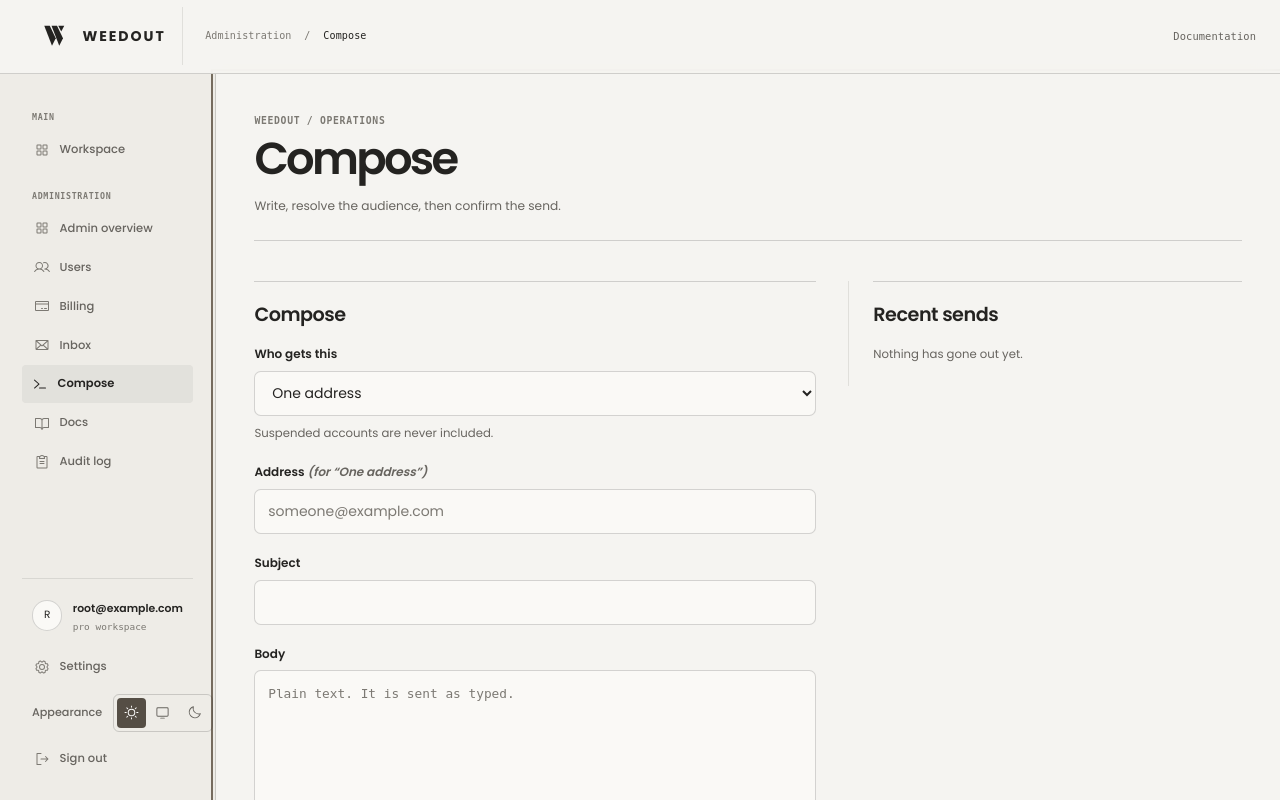
Scenario: the campaign send confirmation › clears the confirmation when the server says the audience moved
Expected: the heading "Compose" below "Weedout / Operations" is shown, [254, 127, 456, 190]
Type "Scheduled maintenance" into the field labelled "Subject" at point(535, 602), box [254, 580, 816, 625]
(page scrolled)
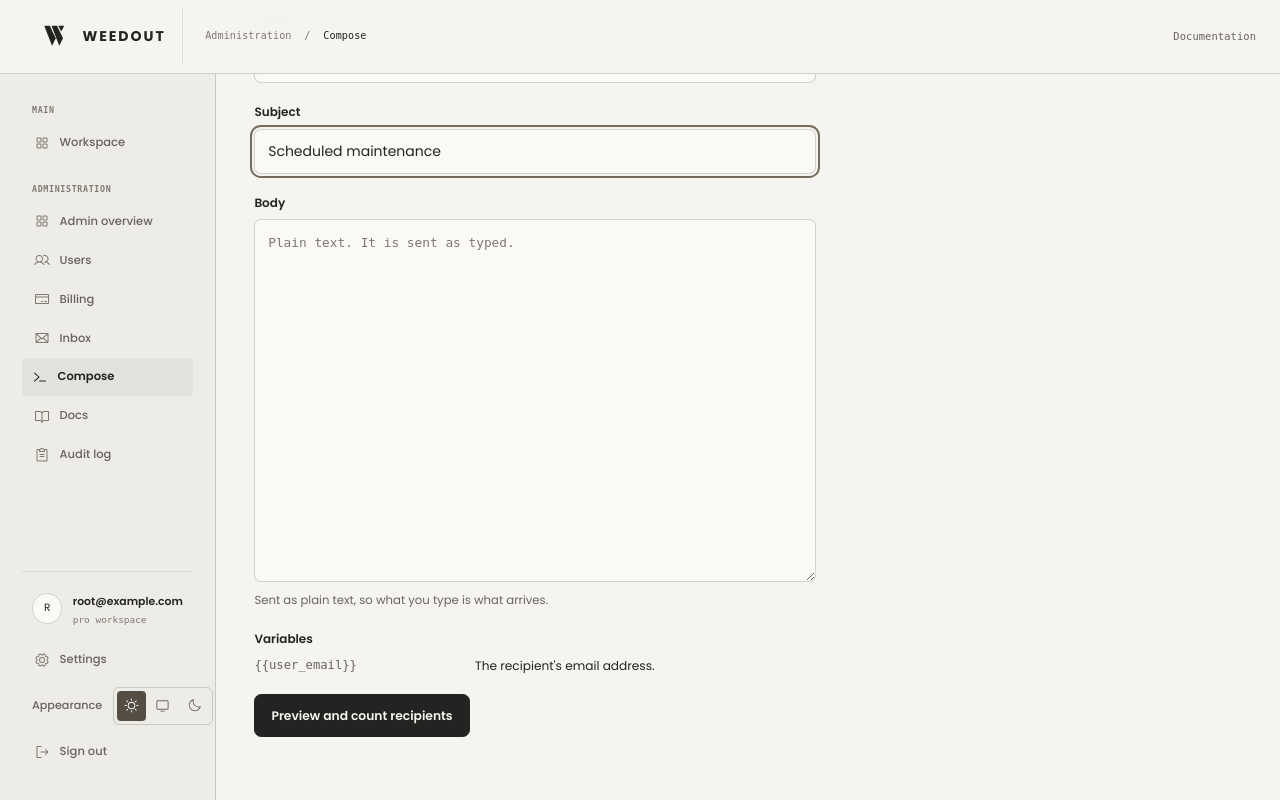
Type "We are moving the database on Friday." into the text box labelled "Body" at point(535, 401), box [254, 219, 816, 582]
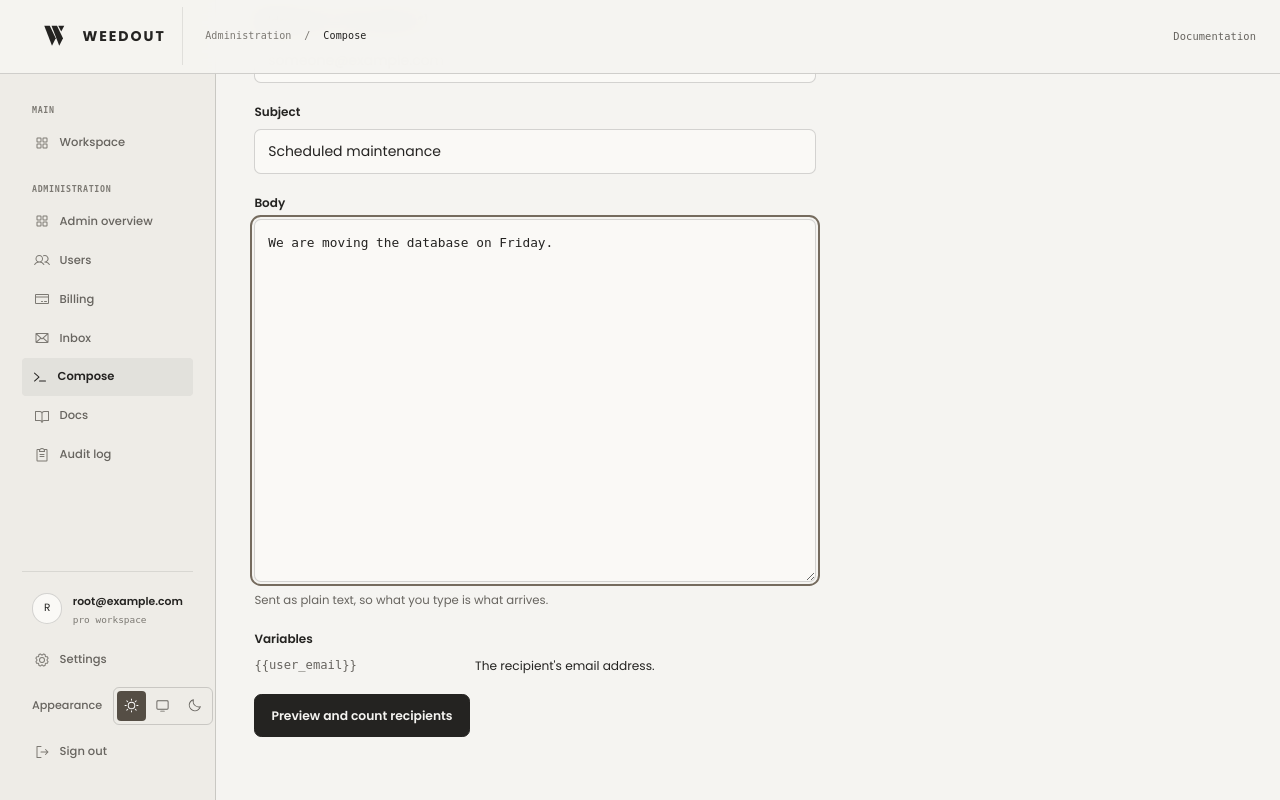
Click the button "Preview and count recipients" at point(362, 716), box [254, 694, 470, 738]
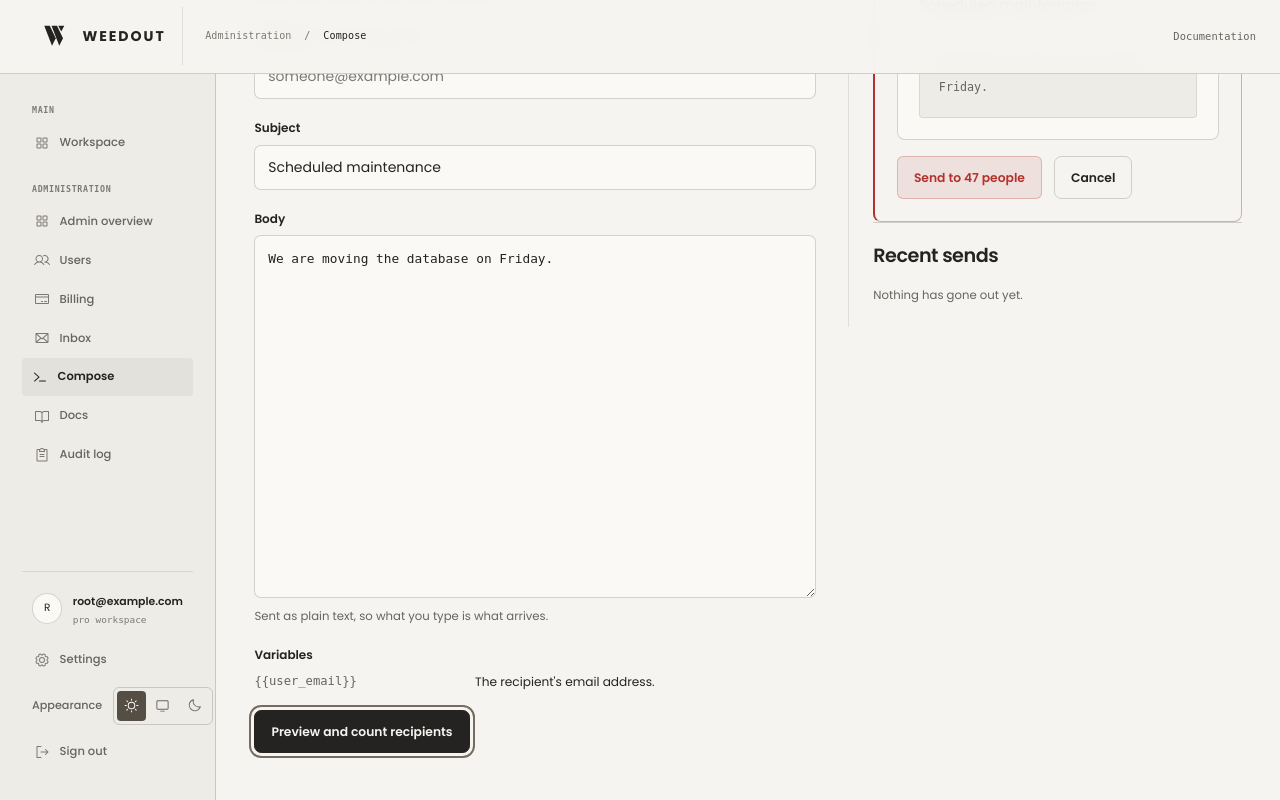
Click the button "Send to 47 people" at point(969, 178), box [897, 156, 1042, 199]
(page scrolled)
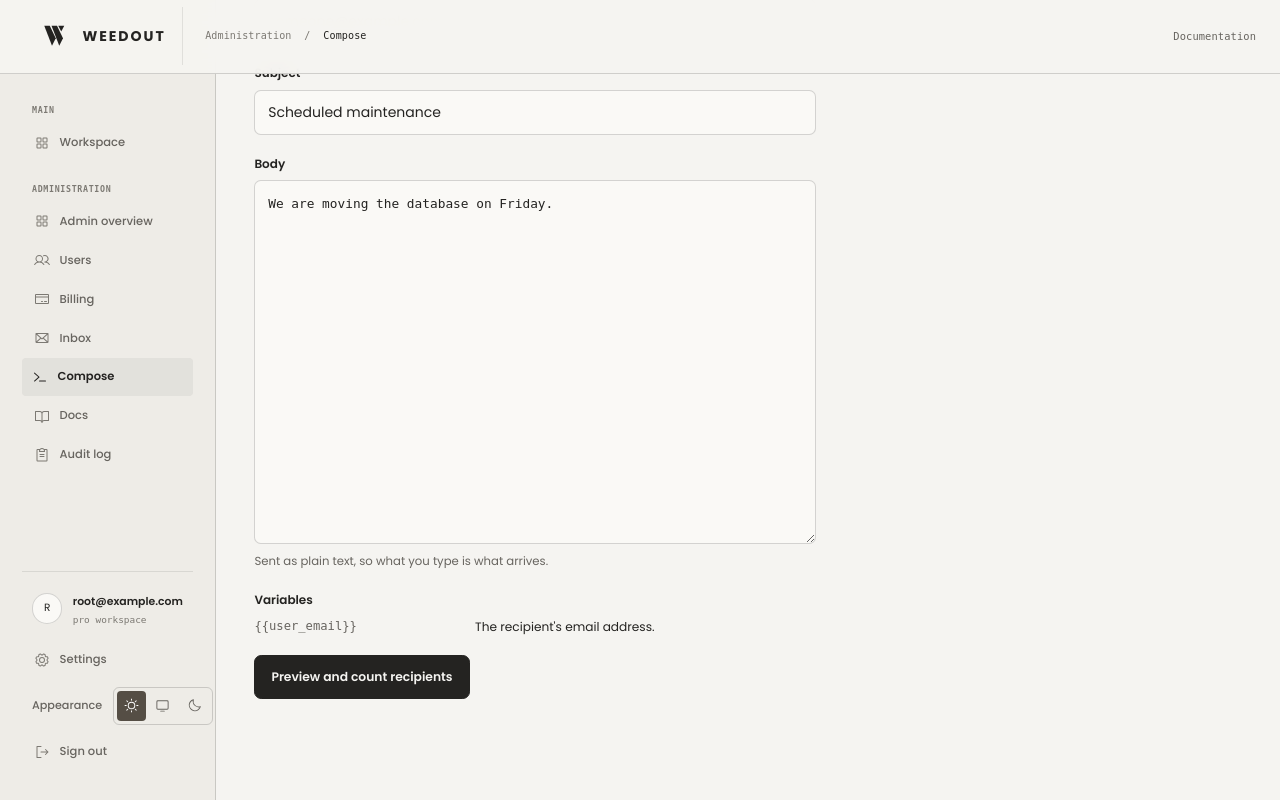
Expected: the button "Preview and count recipients" is shown, [254, 655, 470, 699]
Now the button "Send to 47 people" is gone
